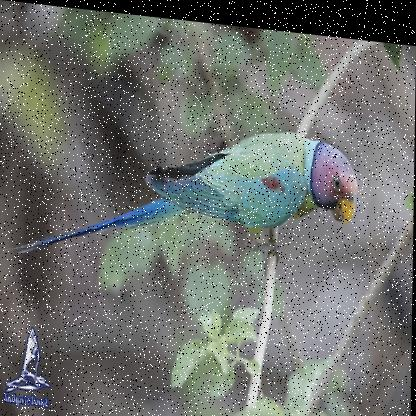Burung: (5, 100, 360, 282)
